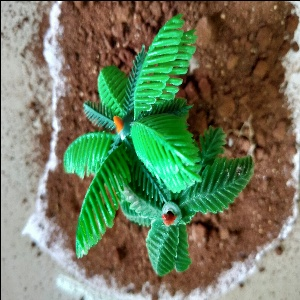plant: (66, 16, 253, 270)
